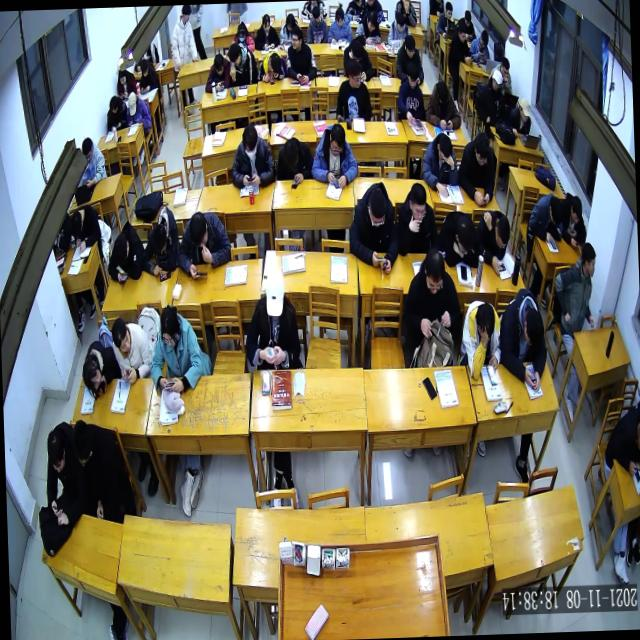bow: (174, 205, 233, 281), (140, 203, 180, 280), (435, 206, 480, 272), (105, 218, 146, 287), (78, 336, 121, 397), (474, 207, 512, 276), (524, 192, 564, 242), (275, 134, 314, 184), (70, 201, 102, 254), (559, 190, 588, 248), (342, 36, 374, 81), (202, 50, 232, 92), (256, 46, 286, 84), (446, 24, 472, 66), (233, 20, 255, 54)
down: (422, 246, 447, 297), (70, 418, 94, 469), (262, 268, 286, 319), (44, 429, 66, 477), (474, 298, 497, 342), (158, 303, 180, 348), (522, 305, 544, 350), (454, 212, 476, 256), (366, 188, 388, 230), (188, 210, 210, 250), (408, 180, 428, 222), (240, 122, 259, 162), (474, 130, 491, 170), (328, 121, 346, 158), (113, 232, 131, 267), (494, 214, 511, 251), (151, 222, 169, 256), (282, 138, 300, 172), (436, 133, 453, 166), (547, 195, 563, 228), (569, 194, 582, 227), (405, 61, 419, 90), (70, 210, 84, 238), (228, 41, 242, 69), (518, 95, 532, 123), (350, 38, 364, 64), (402, 34, 416, 60), (436, 80, 449, 108), (268, 50, 282, 75), (81, 135, 94, 161), (211, 51, 224, 76), (366, 8, 378, 32), (499, 56, 510, 82), (128, 91, 138, 118), (334, 6, 345, 28), (395, 12, 406, 34), (236, 21, 248, 41), (478, 28, 489, 48), (456, 22, 466, 44), (108, 94, 118, 114), (261, 12, 271, 32), (285, 10, 295, 30), (139, 57, 149, 76), (463, 8, 472, 28), (444, 1, 453, 20), (117, 67, 127, 84)
sit: (397, 243, 463, 370), (70, 414, 136, 524), (242, 266, 302, 369), (496, 286, 550, 392), (147, 300, 204, 394), (347, 177, 401, 275), (44, 416, 88, 526), (552, 240, 600, 334), (130, 273, 171, 367), (457, 298, 502, 382), (110, 314, 156, 389), (394, 178, 438, 256), (456, 128, 498, 206), (228, 122, 276, 190), (310, 121, 358, 187), (420, 130, 460, 198), (332, 56, 372, 124), (602, 406, 640, 476), (282, 24, 316, 86), (424, 76, 462, 130), (169, 5, 199, 73), (478, 68, 508, 130), (396, 60, 424, 121), (394, 32, 424, 85), (78, 136, 107, 188), (228, 39, 258, 85), (326, 7, 354, 46), (124, 90, 151, 130), (354, 7, 382, 45), (253, 10, 280, 49), (508, 96, 532, 138), (305, 5, 328, 46), (106, 94, 128, 136), (386, 9, 410, 46), (136, 58, 160, 94), (468, 28, 490, 65), (115, 64, 137, 100), (436, 0, 456, 38), (278, 11, 298, 46), (457, 6, 476, 42)
